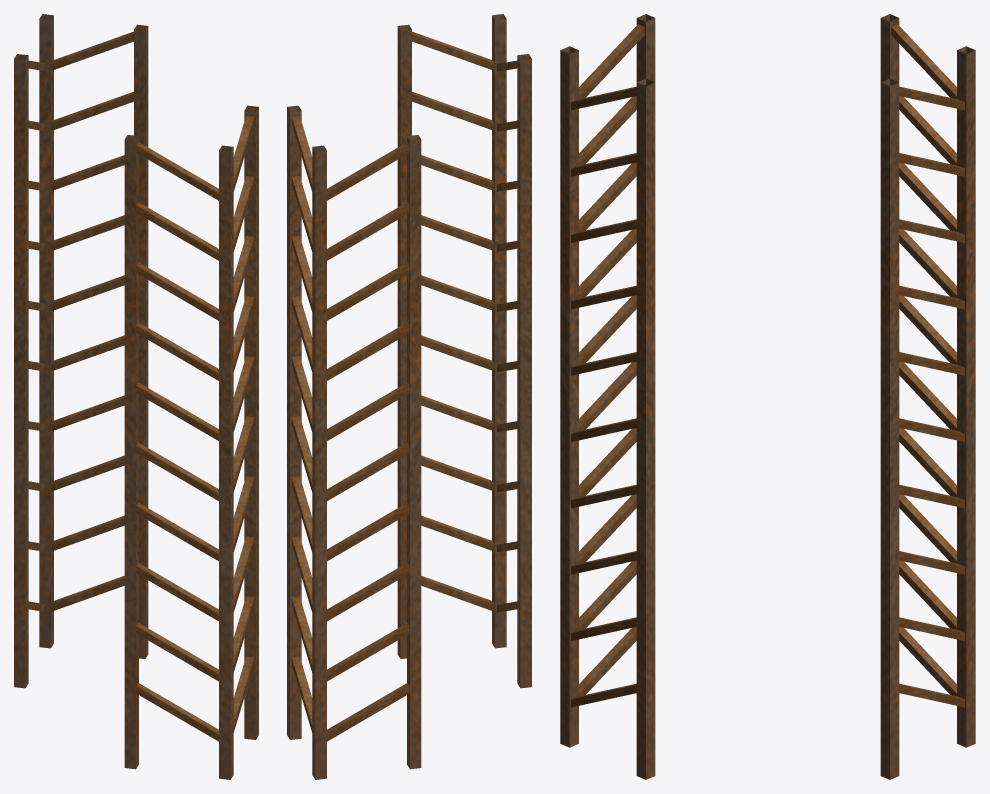
Rendered from SidePlatformBottom.obj.
3 renders of one model, left to right at view 1: azimuth 30°, elevation 25°; view 2: azimuth 150°, elevation 25°; view 3: azimuth 270°, elevation 25°, orthographic. The views are drawn at different scales.
Visible parts, largest first — view 1: SidePlatformBottom; view 2: SidePlatformBottom; view 3: SidePlatformBottom.
Part boxes in pixels (x1,y1,x2,y2): SidePlatformBottom: (14, 14, 258, 779); SidePlatformBottom: (287, 14, 531, 779); SidePlatformBottom: (560, 14, 975, 779).
Size of the model in its own units: 1.97 by 8.83 by 4.79.
1 material, 1 textured.
